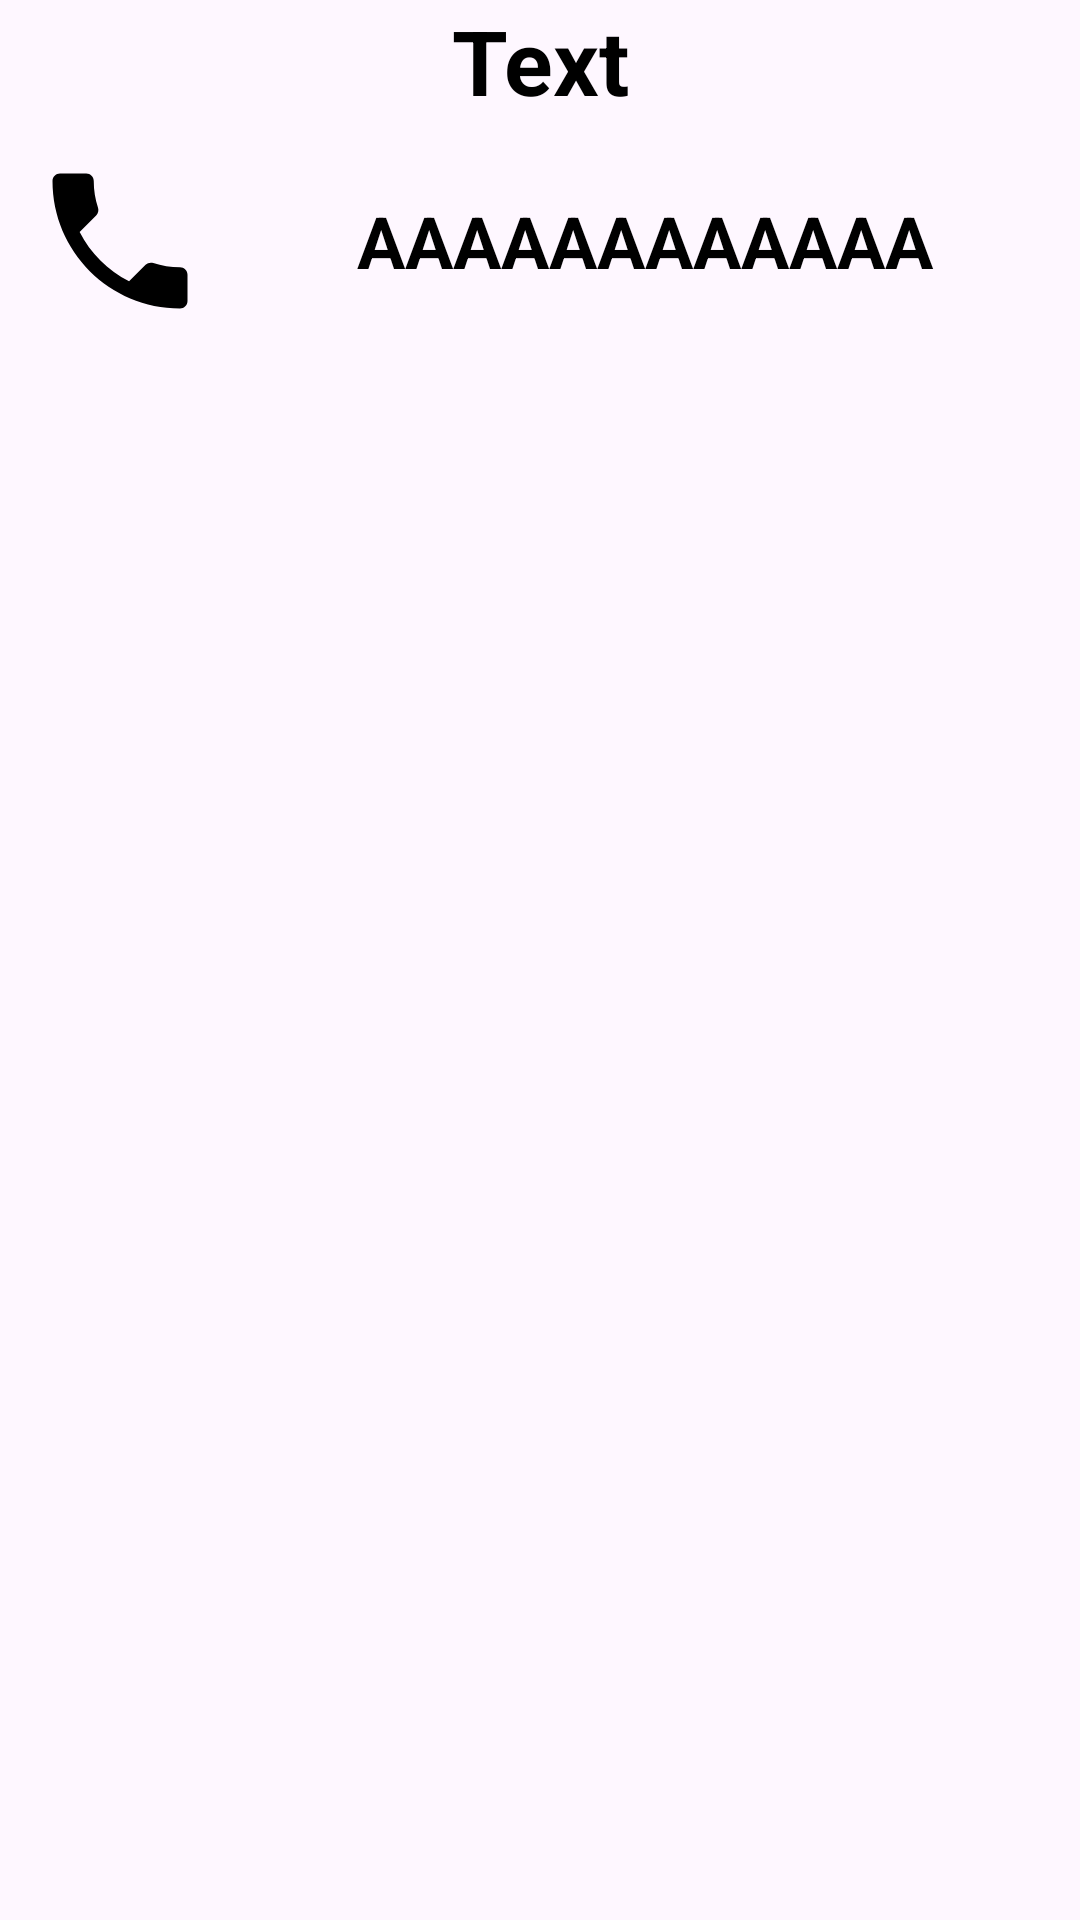

Named icons in this screenshot (1080px×1920px) and their centers, (x=x, y=y):
phone: (x=120, y=241)
